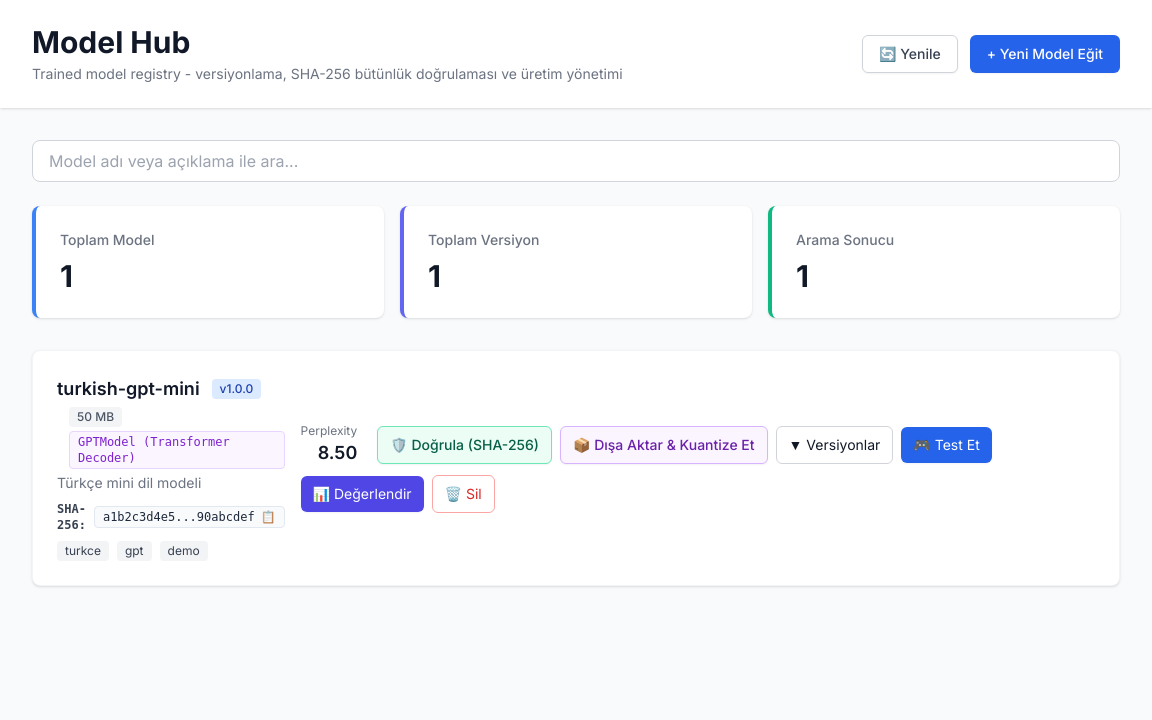
Test: ModelsPage - Model Export & Quantization Pipeline › opens Export & Quantization modal when clicking export button
Click the button "📦 Dışa Aktar & Kuantize Et".
click(664, 445)  # box [560,426,768,464]
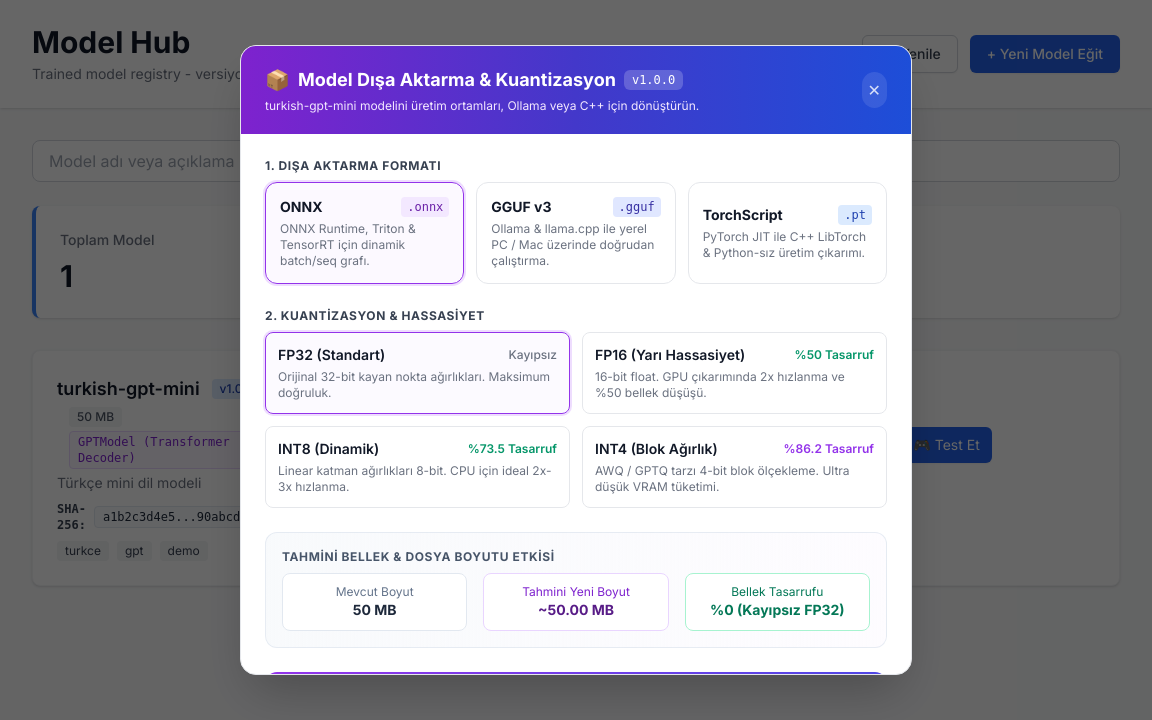
Result: the heading "Model Dışa Aktarma & Kuantizasyon" is shown at [298,66,616,94]
Result: the text "1. Dışa Aktarma Formatı" is shown at [265,158,441,173]
Result: the text "2. Kuantizasyon & Hassasiyet" is shown at [265,308,485,323]
